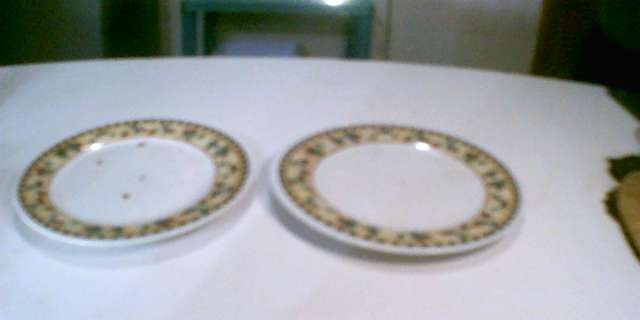empty_plate: (267, 117, 532, 263), (6, 111, 260, 254)
